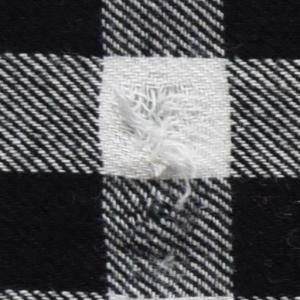Damage: (107, 67, 217, 276)
